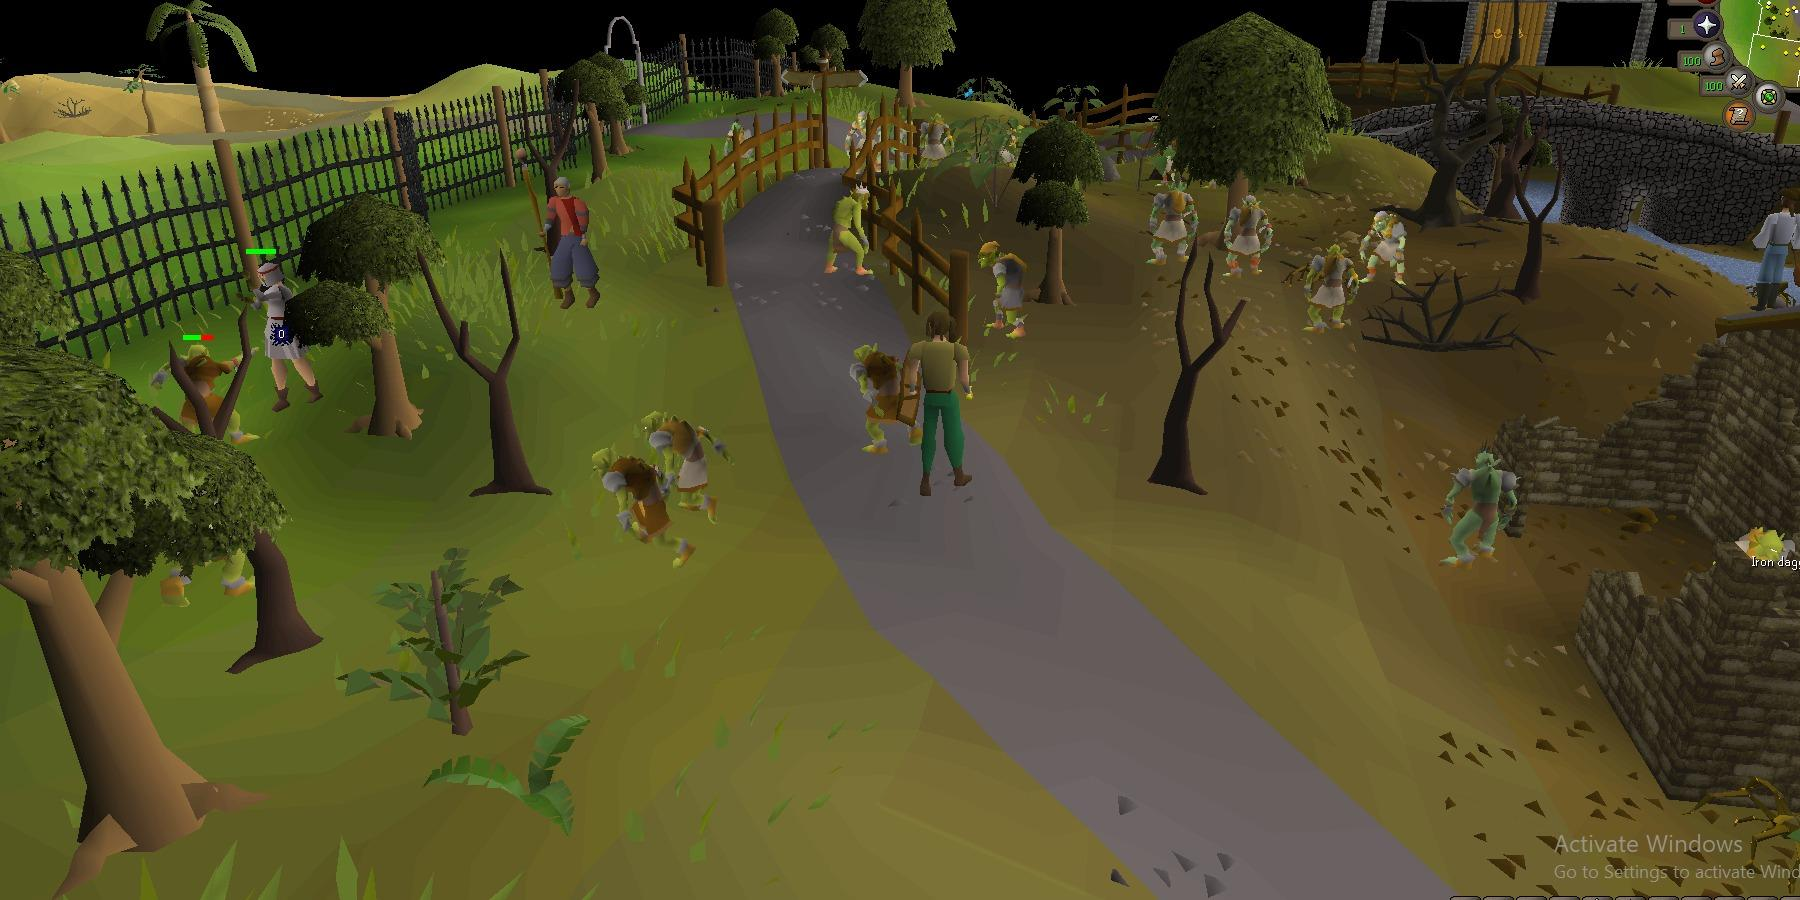goblin: (147, 484, 266, 606), (152, 338, 267, 452), (588, 449, 695, 567), (641, 411, 731, 522), (1445, 445, 1520, 571), (847, 344, 931, 453), (975, 242, 1037, 340), (1145, 173, 1201, 267), (821, 184, 877, 277), (1305, 245, 1359, 334), (1221, 192, 1274, 280), (1358, 210, 1417, 286), (843, 113, 886, 176), (917, 114, 957, 168), (722, 123, 759, 166)
